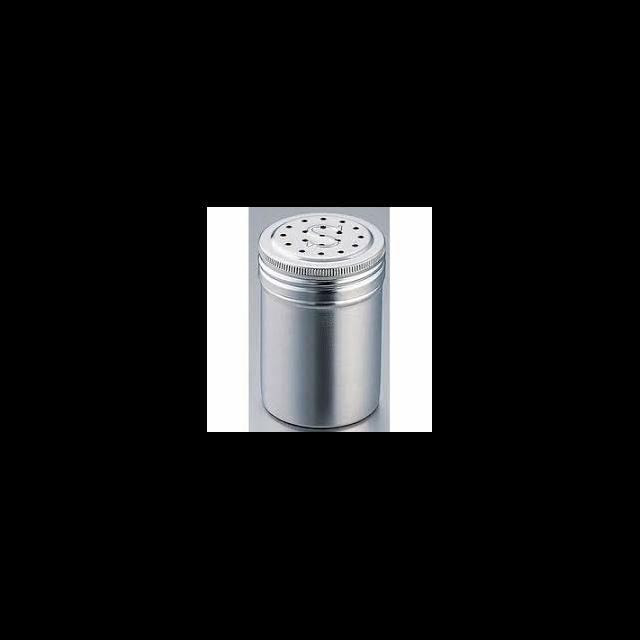metal: (258, 212, 386, 426)
